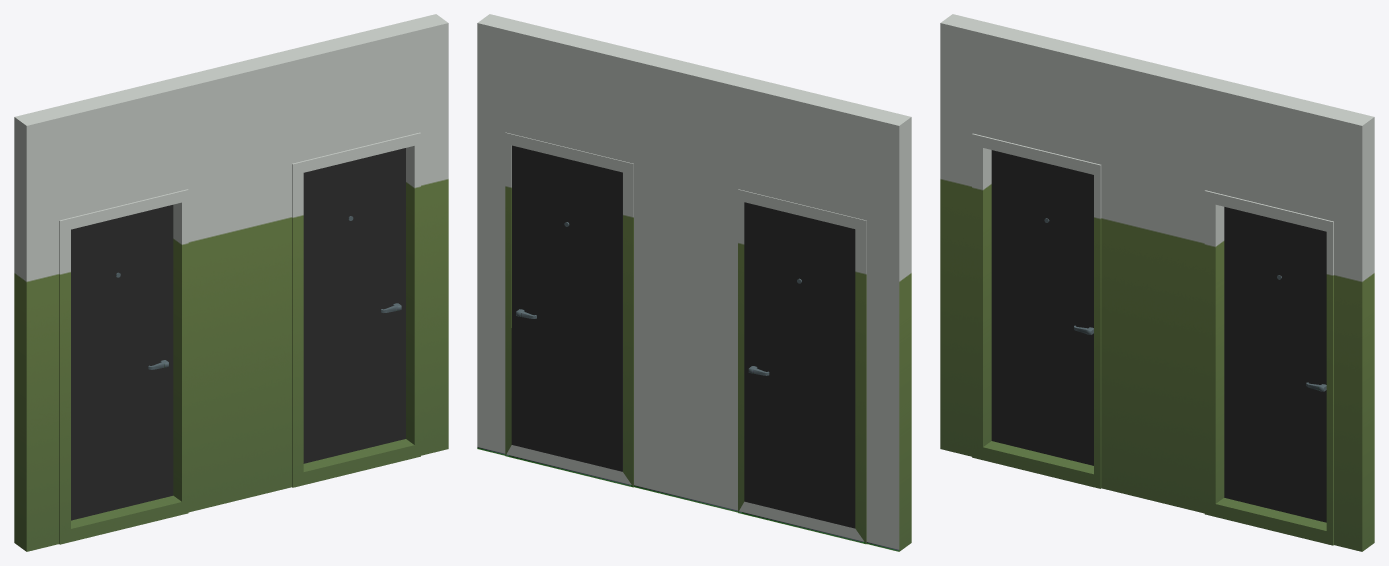
Rendered from Inner_Wall_floor_doors_type3.FBX.
3 views of the same model, side by side, from view 1: azimuth 30°, elevation 25°; view 2: azimuth 150°, elevation 25°; view 3: azimuth 330°, elevation 25° (orthographic).
Parts seen in each view (by area): view 1: Inner_Wall_floor_doors_type3_003, Outer_Metall_door_015, Outer_Metall_door_016; view 2: Inner_Wall_floor_doors_type3_003, Outer_Metall_door_015, Outer_Metall_door_016; view 3: Inner_Wall_floor_doors_type3_003, Outer_Metall_door_016, Outer_Metall_door_015.
Boxes of the visible parts, x1,y1,x2,y2 form: Inner_Wall_floor_doors_type3_003: (14,14,448,551); Outer_Metall_door_015: (71,205,173,520); Outer_Metall_door_016: (303,148,405,463); Inner_Wall_floor_doors_type3_003: (477,14,911,551); Outer_Metall_door_015: (744,202,855,528); Outer_Metall_door_016: (511,145,622,471); Inner_Wall_floor_doors_type3_003: (940,14,1374,551); Outer_Metall_door_016: (1224,207,1326,522); Outer_Metall_door_015: (991,150,1093,465).
Size of the model in its own units: 723 by 698 by 51.72.
Materials: 3 (3 with a texture image).
